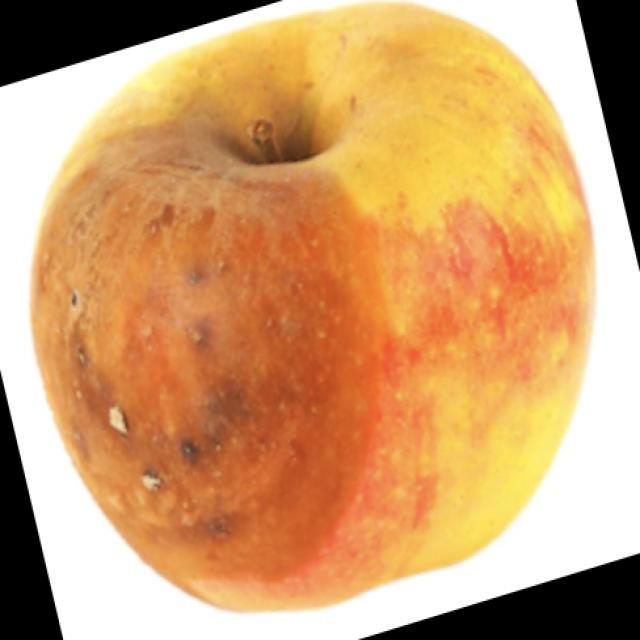Rotten: (45, 10, 585, 608)
